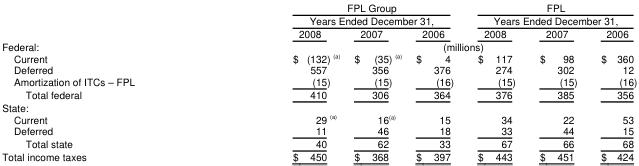table: (1, 0, 636, 163)
table column: (1, 0, 213, 163), (213, 0, 346, 163), (346, 0, 408, 163), (526, 0, 588, 163), (465, 0, 526, 163), (408, 0, 465, 163), (588, 0, 636, 163)
table column header: (1, 0, 636, 39)
table projected row header: (1, 100, 636, 112)
table row: (1, 0, 636, 26), (1, 149, 636, 163), (1, 26, 636, 39), (1, 39, 636, 52), (1, 87, 636, 100), (1, 136, 636, 149), (1, 63, 636, 75), (1, 75, 636, 87), (1, 100, 636, 112), (1, 112, 636, 124), (1, 124, 636, 136), (1, 52, 636, 63)
table spanning cell: (213, 0, 465, 26), (213, 39, 636, 52), (465, 0, 636, 26)
